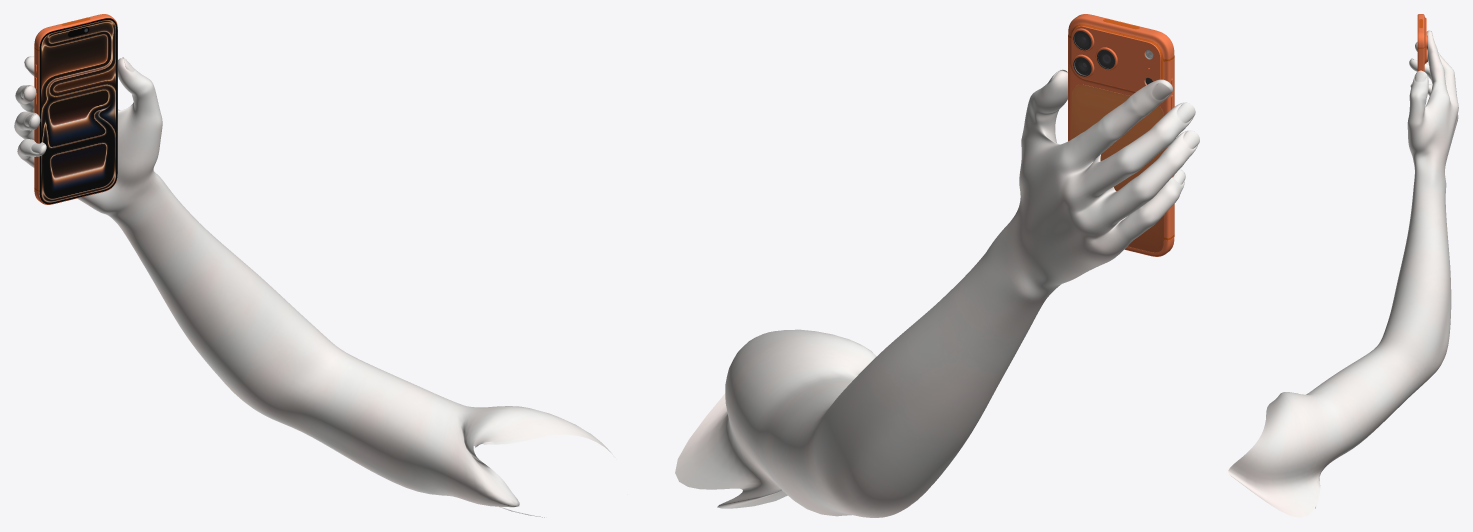
The picture shows the model from 3 angles, left to right: view 1: azimuth 30°, elevation 25°; view 2: azimuth 150°, elevation 25°; view 3: azimuth 270°, elevation 25°; orthographic projection. The views are drawn at different scales.
Parts seen in each view (by area): view 1: Body.001, HkNSnYzBPABcqwM.003, iiaJouajajQCUNT.016, AGRAGZgDdQiqAwv.003; view 2: Body.001, iiaJouajajQCUNT.016, gCMlCSdRJrizepS.003; view 3: Body.001, iiaJouajajQCUNT.016.
Part boxes in pixels (x1,y1,x2,y2): Body.001: (14,56,612,517); HkNSnYzBPABcqwM.003: (41,20,115,202); iiaJouajajQCUNT.016: (34,14,117,204); AGRAGZgDdQiqAwv.003: (39,18,117,204); Body.001: (675,69,1199,517); iiaJouajajQCUNT.016: (1068,14,1174,256); gCMlCSdRJrizepS.003: (1072,84,1163,252); Body.001: (1228,30,1458,517); iiaJouajajQCUNT.016: (1417,14,1426,71).
Size of the model in its own units: 0.4883 by 0.4974 by 0.2919.
29 materials, 10 textured.
